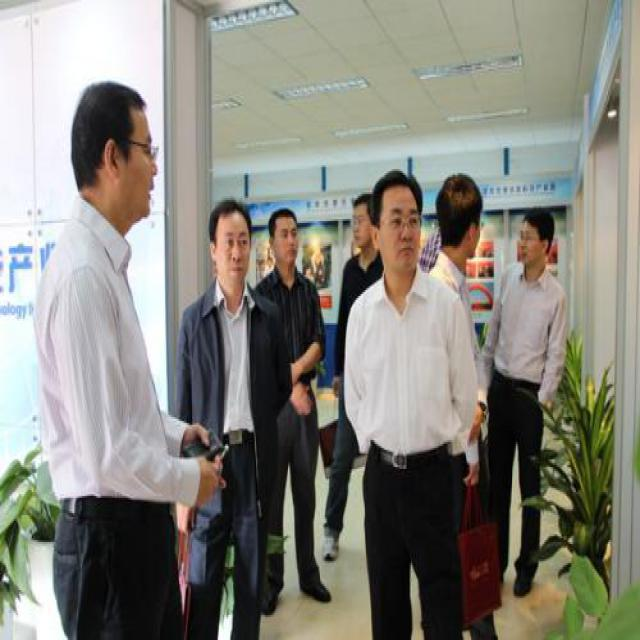head: (67, 72, 159, 232), (370, 161, 425, 280), (206, 189, 254, 295), (435, 168, 483, 266), (267, 201, 302, 274), (517, 201, 551, 272), (347, 190, 375, 261)
person: (13, 66, 210, 626), (347, 163, 485, 633), (169, 188, 295, 640), (483, 200, 582, 617), (252, 202, 348, 621)
